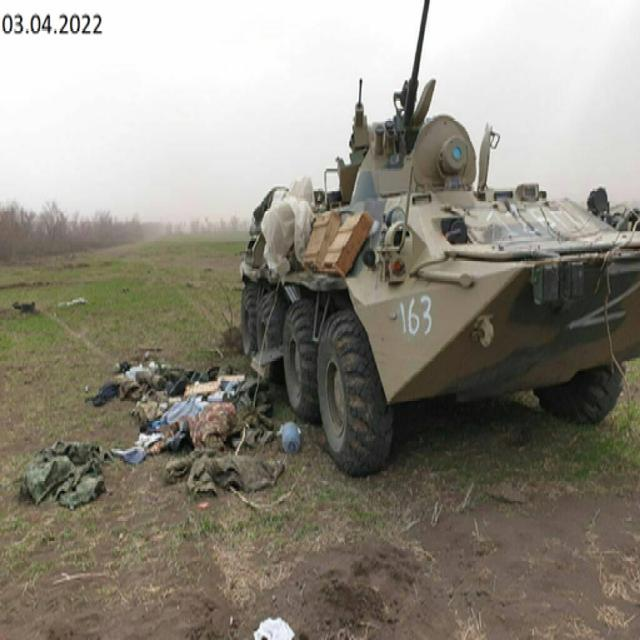APC-IFV: (241, 2, 639, 478)
